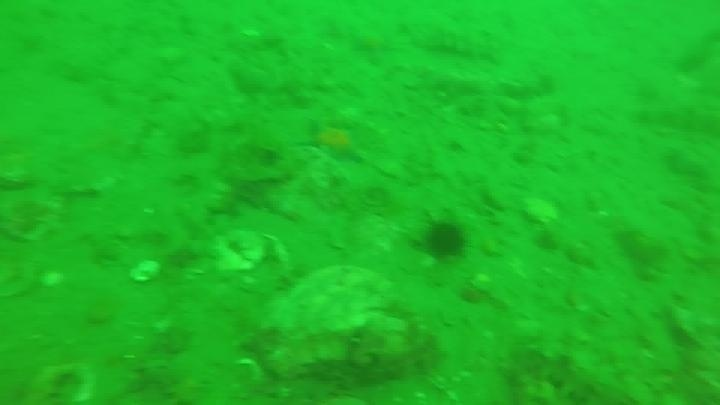echinus: (422, 219, 468, 262)
holothurian: (507, 345, 642, 405), (407, 22, 502, 63)
starfish: (299, 119, 367, 167)
